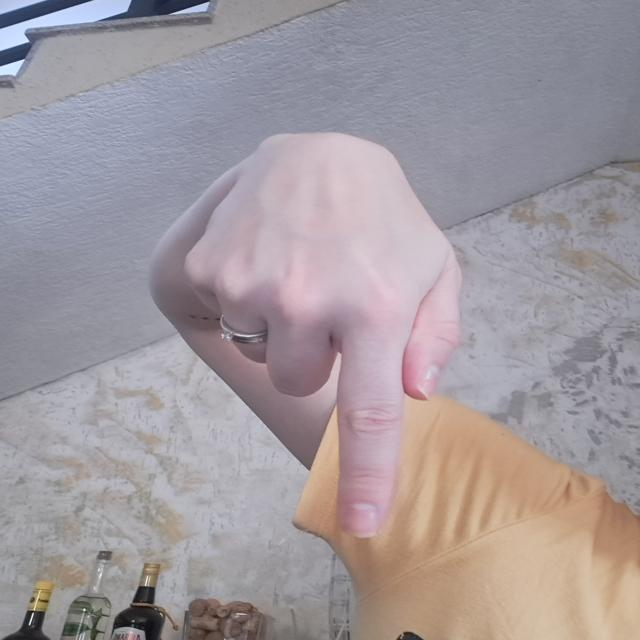Q: (178, 110, 476, 549)
